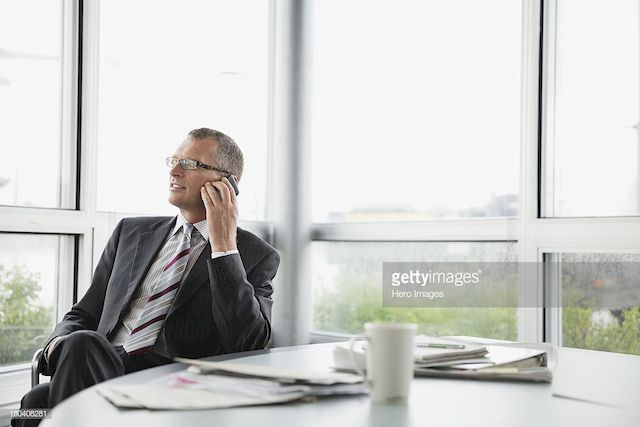phone: (204, 178, 241, 203)
talk: (167, 151, 244, 231)
